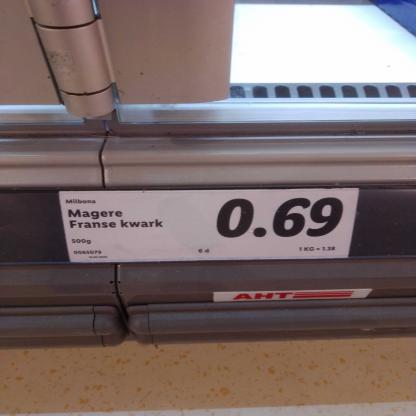prtg: (60, 189, 360, 263)
